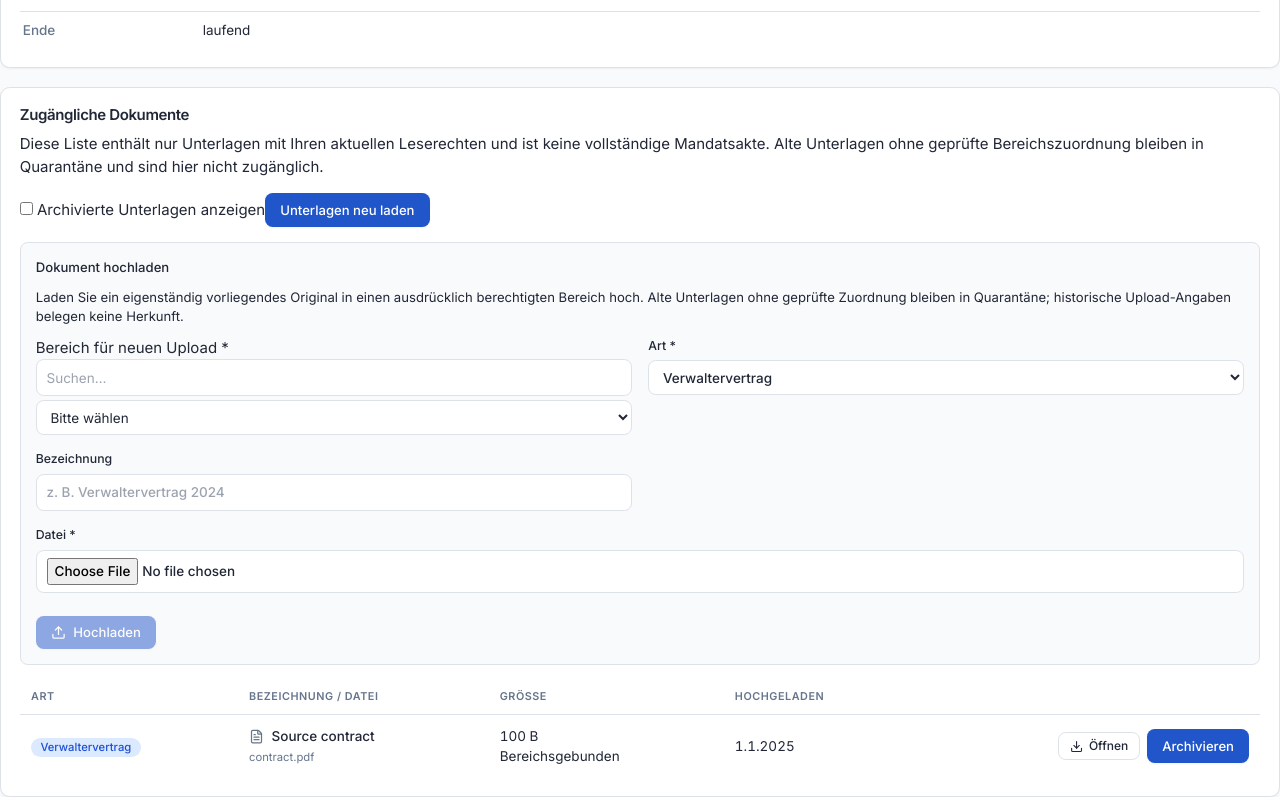
Test: describes visible documents as partial and preserves original evidence through explicit reasoned archive
(page scrolled)
Check: the text "Source contract" is shown, box [272, 726, 375, 746]
Check: the text "keine vollständige Mandatsakte" shows "bleiben in Quarantäne und sind hier nicht zugänglich", box [20, 134, 1204, 176]
Click the button "Archivieren": point(1198, 746) [1147, 729, 1249, 763]
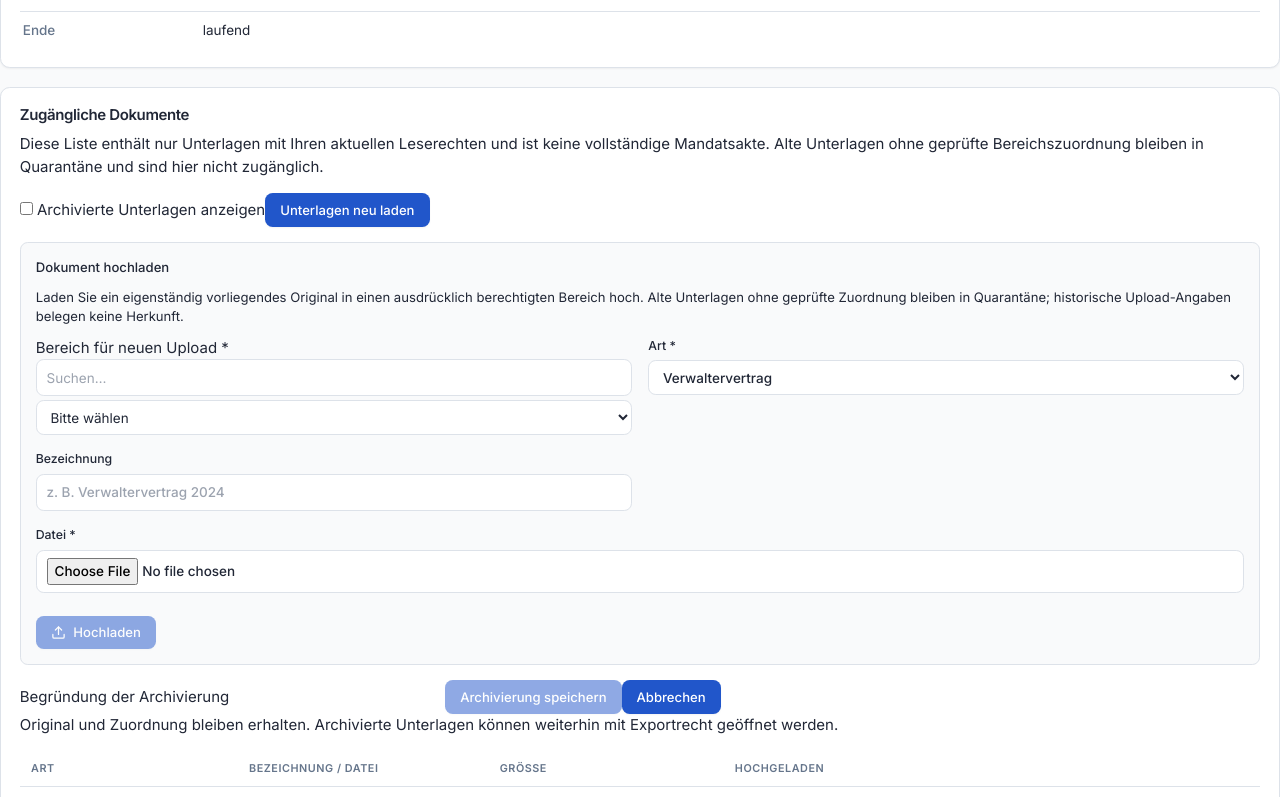
Check: the button "Archivierung speichern" is disabled, box [445, 680, 622, 714]
In the field labelled "Begründung der Archivierung": point(337, 697) [229, 686, 445, 708], type "Replaced"
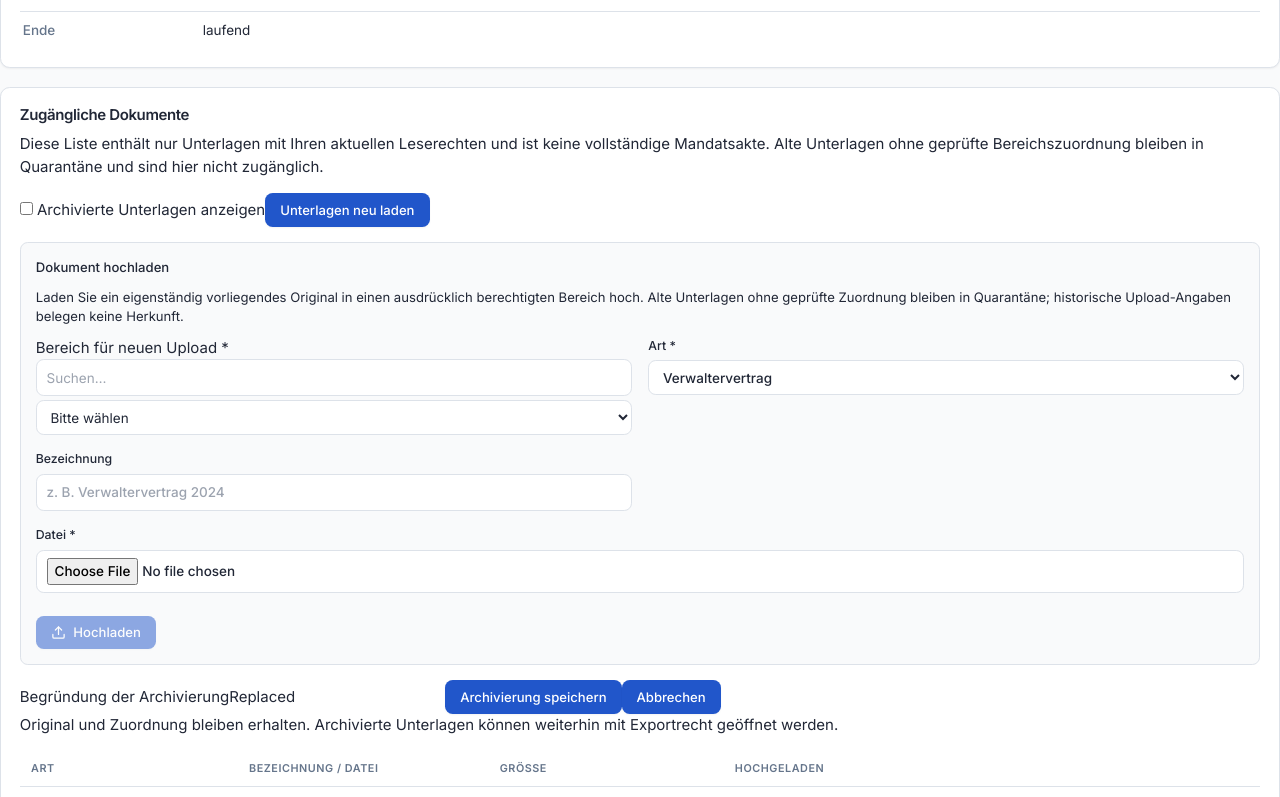
Click the button "Archivierung speichern": point(533, 697) [445, 680, 622, 714]
(page scrolled)
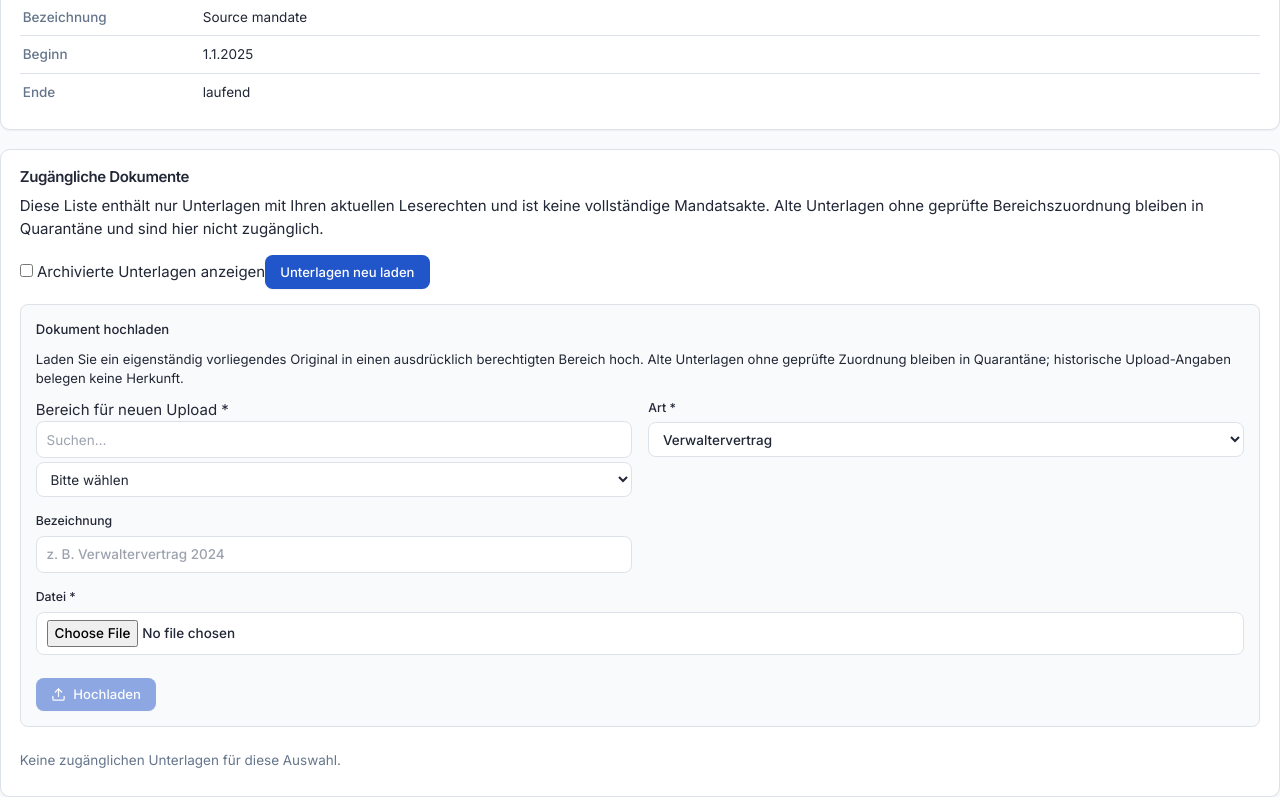
Check: the text "Keine zugänglichen Unterlagen für diese Auswahl." is shown, box [20, 752, 341, 768]
Click the checkbox labelled "Archivierte Unterlagen anzeigen": point(26, 270) [20, 264, 33, 277]
(page scrolled)
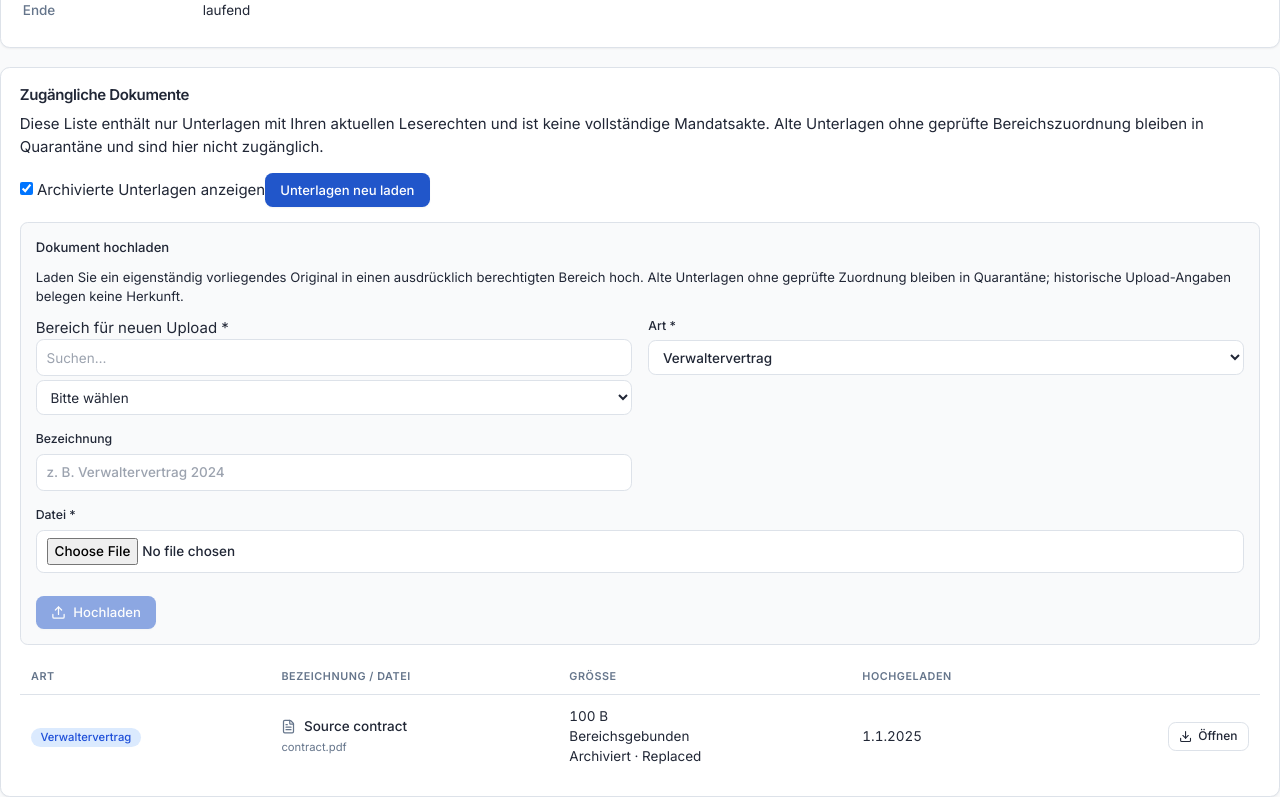
Check: the cell "Archivieren" is not shown
Check: the text "Source contract" is shown, box [304, 716, 407, 736]
